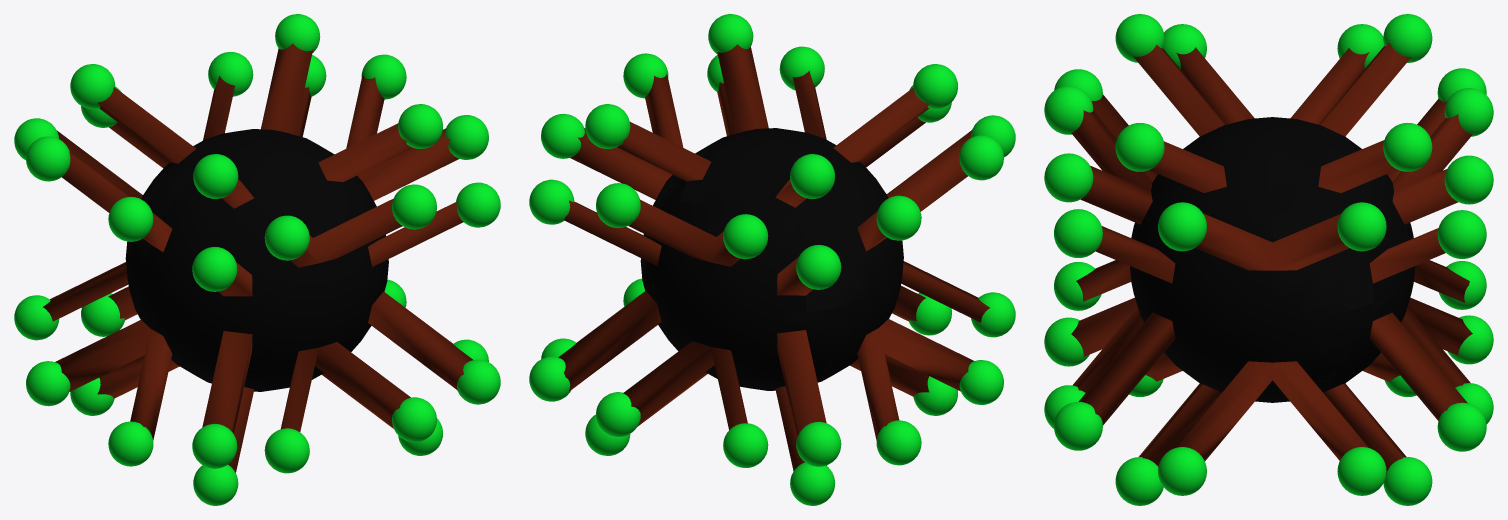
The model's file is Player.fbx.
The picture shows the model from 3 angles, left to right: view 1: azimuth 30°, elevation 25°; view 2: azimuth 150°, elevation 25°; view 3: azimuth 270°, elevation 25°; orthographic projection. The views are drawn at different scales.
Parts seen in each view (by area): view 1: Roundcube, Roundcube.009, Roundcube.004, Roundcube.008, Roundcube.003, Roundcube.002, Roundcube.007, Roundcube.006, Roundcube.005; view 2: Roundcube, Roundcube.006, Roundcube.005, Roundcube.007, Roundcube.002, Roundcube.003, Roundcube.008, Roundcube.009, Roundcube.004; view 3: Roundcube, Roundcube.004, Roundcube.005, Roundcube.009, Roundcube.007, Roundcube.008, Roundcube.006, Roundcube.002, Roundcube.003.
Boxes of the visible parts, left/top/right/bottom form: Roundcube: left=43, top=43, right=472, bottom=472; Roundcube.009: left=264, top=184, right=436, bottom=473; Roundcube.004: left=192, top=182, right=500, bottom=468; Roundcube.008: left=193, top=104, right=442, bottom=505; Roundcube.003: left=108, top=115, right=488, bottom=466; Roundcube.002: left=26, top=54, right=406, bottom=406; Roundcube.007: left=70, top=14, right=320, bottom=415; Roundcube.006: left=81, top=52, right=253, bottom=336; Roundcube.005: left=14, top=55, right=326, bottom=340; Roundcube: left=558, top=44, right=989, bottom=470; Roundcube.006: left=596, top=183, right=768, bottom=467; Roundcube.005: left=529, top=179, right=841, bottom=466; Roundcube.007: left=585, top=104, right=835, bottom=505; Roundcube.002: left=541, top=113, right=921, bottom=465; Roundcube.003: left=623, top=53, right=1003, bottom=404; Roundcube.008: left=708, top=14, right=957, bottom=415; Roundcube.009: left=779, top=46, right=951, bottom=335; Roundcube.004: left=707, top=55, right=1015, bottom=337; Roundcube: left=1071, top=43, right=1472, bottom=474; Roundcube.004: left=1054, top=69, right=1102, bottom=450; Roundcube.005: left=1437, top=68, right=1486, bottom=451; Roundcube.009: left=1044, top=86, right=1093, bottom=428; Roundcube.007: left=1383, top=14, right=1432, bottom=505; Roundcube.008: left=1115, top=14, right=1164, bottom=505; Roundcube.006: left=1444, top=88, right=1493, bottom=424; Roundcube.002: left=1337, top=24, right=1386, bottom=495; Roundcube.003: left=1158, top=24, right=1206, bottom=495.
Size of the model in its own units: 329 by 291 by 313.
